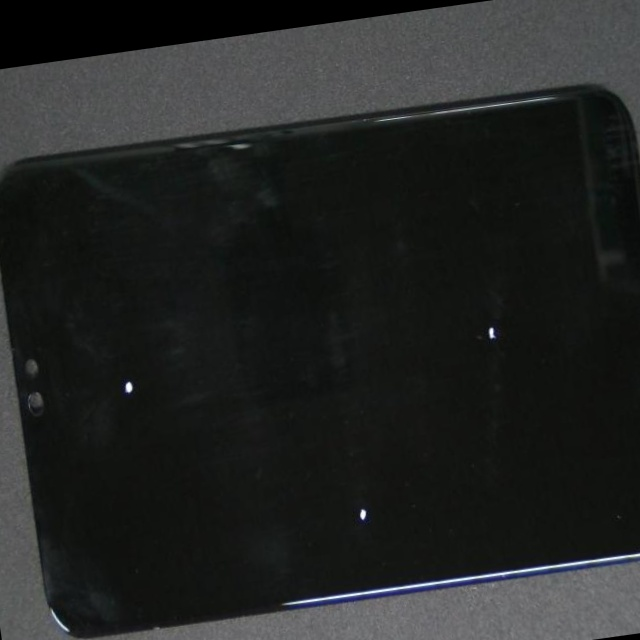stain: (138, 219, 555, 640), (219, 138, 640, 492), (21, 182, 214, 545)
